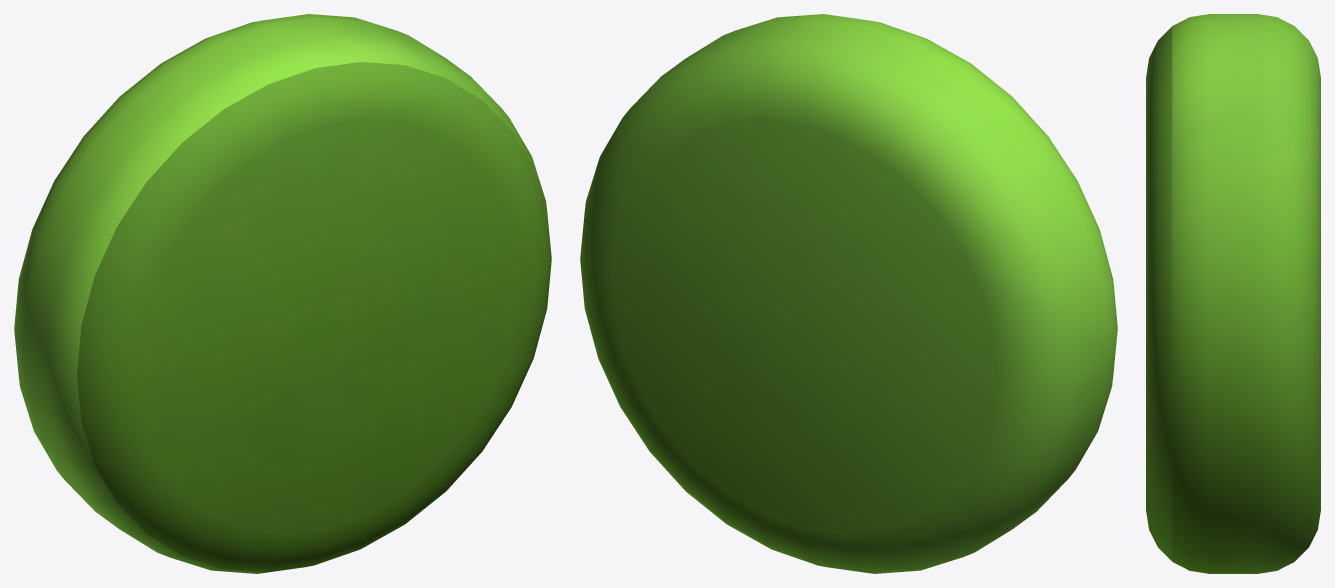
Rendered from Button-green.fbx.
3 views of the same model, side by side, from view 1: azimuth 30°, elevation 25°; view 2: azimuth 150°, elevation 25°; view 3: azimuth 270°, elevation 25° (orthographic). The views are drawn at different scales.
Visible parts, largest first — view 1: Bost-Button.001; view 2: Bost-Button.001; view 3: Bost-Button.001.
Part boxes in pixels (x1,y1,x2,y2): Bost-Button.001: (14,14,551,573); Bost-Button.001: (580,14,1117,573); Bost-Button.001: (1146,14,1320,573).
Bounding box in the file's own units: 92.2 × 92.2 × 28.78.
Materials: 1 (1 with a texture image).
